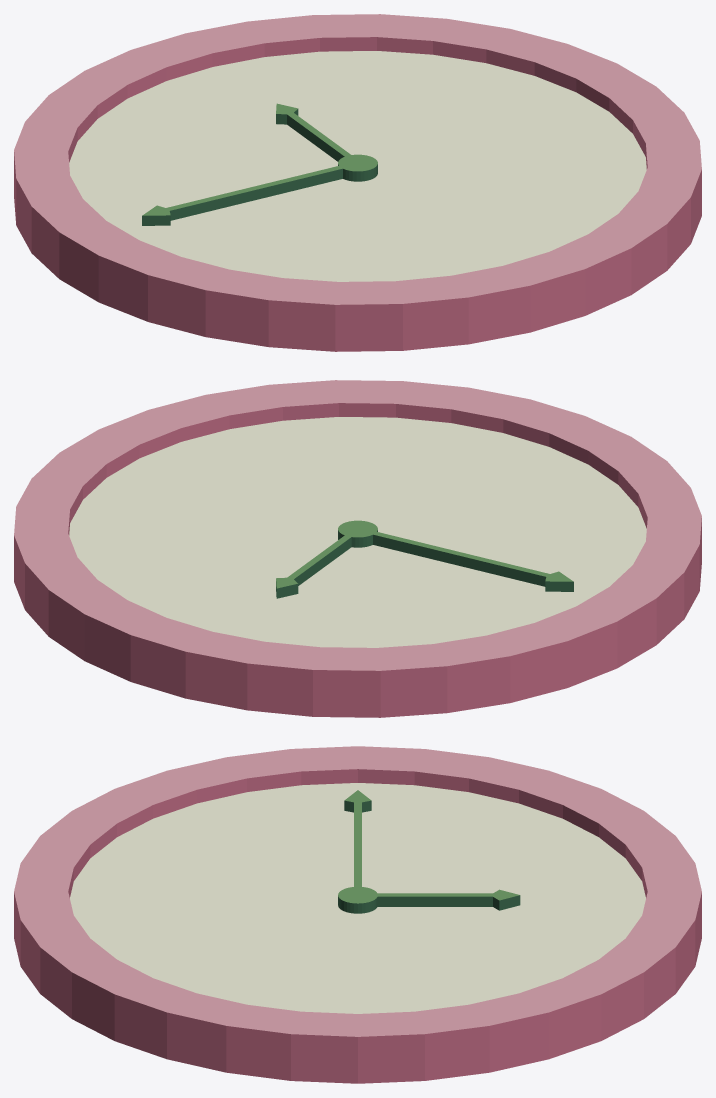
The model's file is clock.fbx.
3 renders of one model, top to bottom at view 1: azimuth 30°, elevation 25°; view 2: azimuth 150°, elevation 25°; view 3: azimuth 270°, elevation 25°, orthographic.
Parts seen in each view (by area): view 1: Circle; view 2: Circle; view 3: Circle.
Boxes of the visible parts, x1,y1,x2,y2 form: Circle: (14, 14, 701, 351); Circle: (14, 380, 701, 717); Circle: (14, 746, 701, 1083).
Bounding box in the file's own units: 200 × 15.03 × 200.
